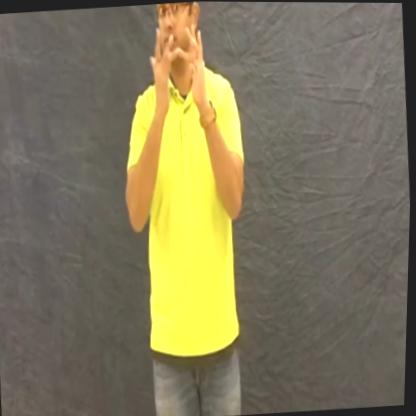Internet: (146, 21, 212, 112)
